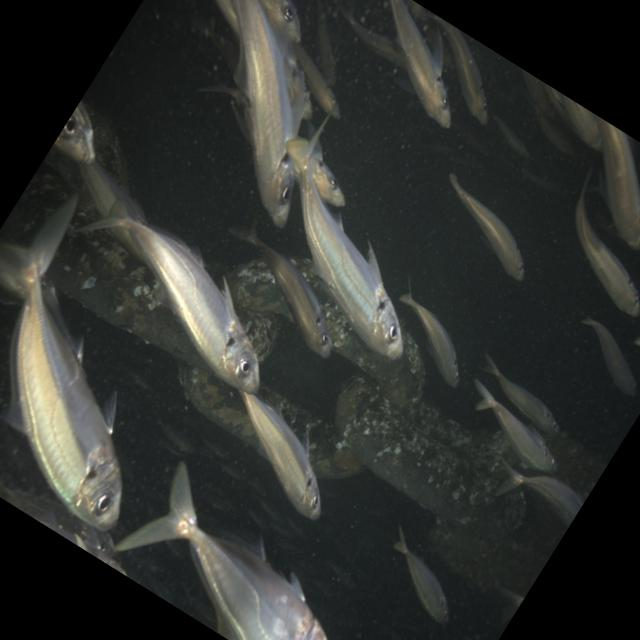ChainLink: (336, 376, 523, 536), (48, 231, 206, 367), (297, 262, 424, 414), (429, 517, 547, 595), (261, 389, 361, 478), (179, 364, 259, 446), (545, 433, 606, 501), (227, 259, 287, 317)
